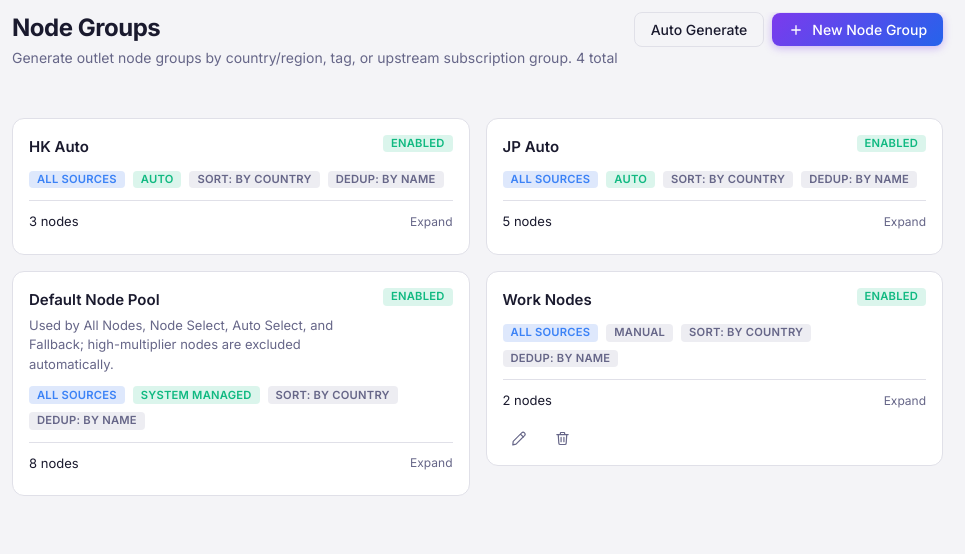
Test: Collections node previews › loads every node group preview only after expansion
Expected: the button with aria-label "Toggle node preview for HK Auto" reads "3 nodes Expand", [29,200,452,232]
Click the button with aria-label "Toggle node preview for Work Nodes": (527, 400) [502,379,926,411]
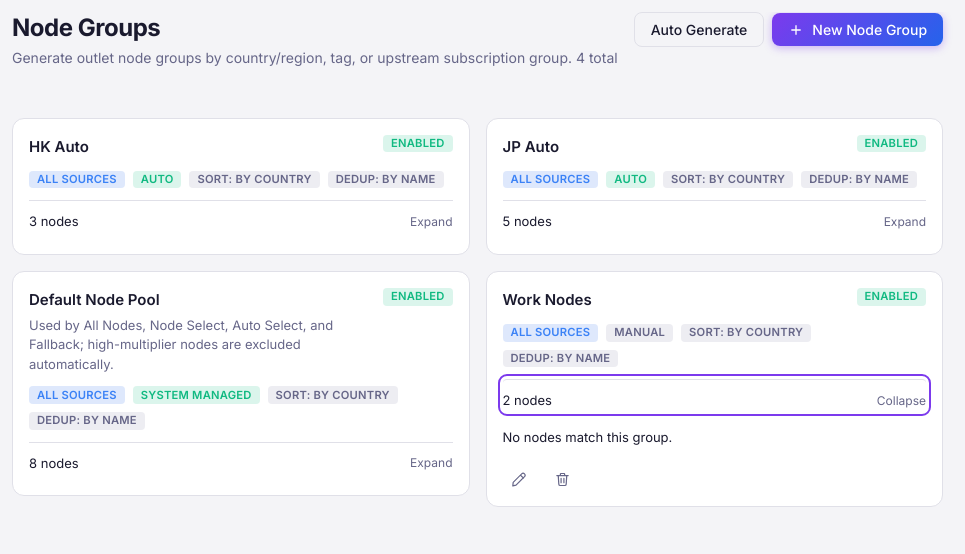
Expected: the button with aria-label "Toggle node preview for Work Nodes" reads "2 nodes Collapse", [502,379,926,411]
Click the button with aria-label "Toggle node preview for Default Node Pool": (54, 463) [29,442,452,473]
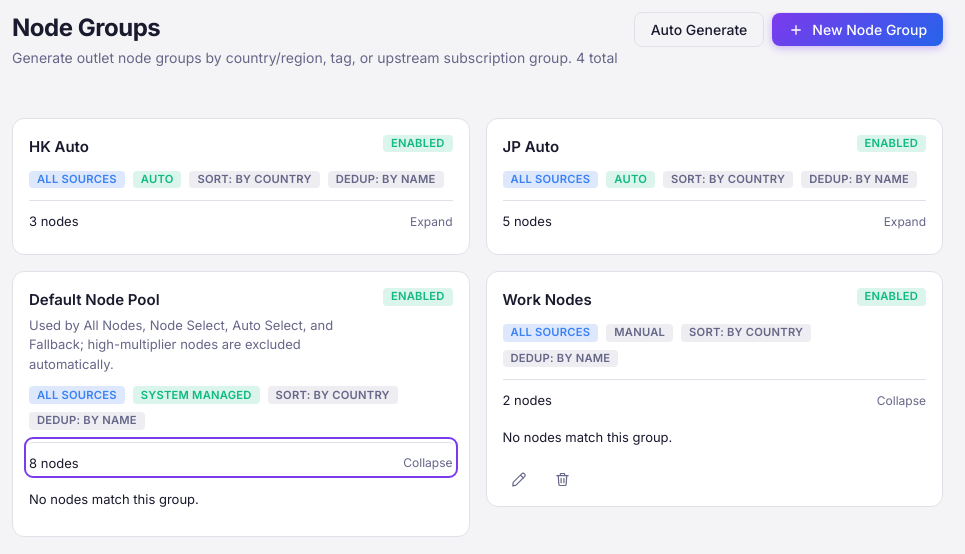
Expected: the button with aria-label "Toggle node preview for Default Node Pool" is expanded, [29,442,452,473]
